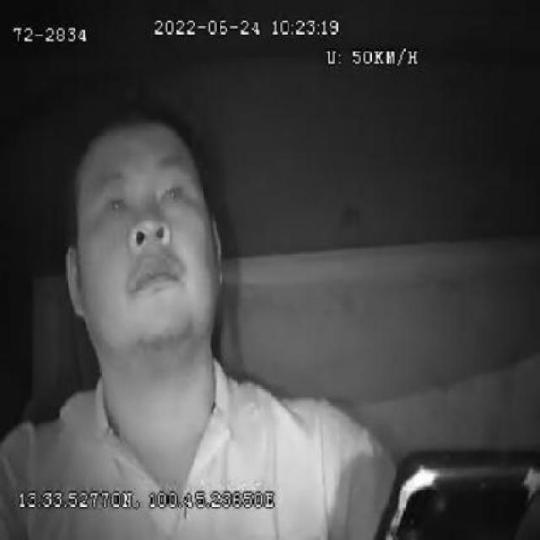phone: (374, 436, 539, 540)
